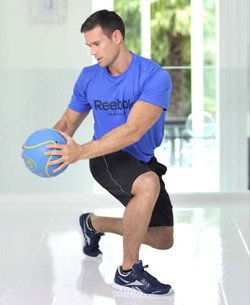blue ball: (22, 128, 68, 178)
